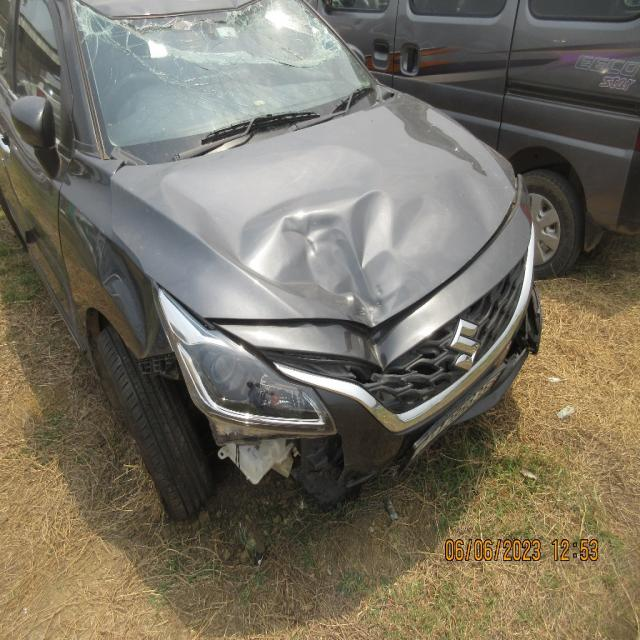damage: (207, 185, 414, 320), (71, 0, 338, 86), (248, 294, 460, 398), (203, 393, 374, 496), (512, 288, 543, 355)
